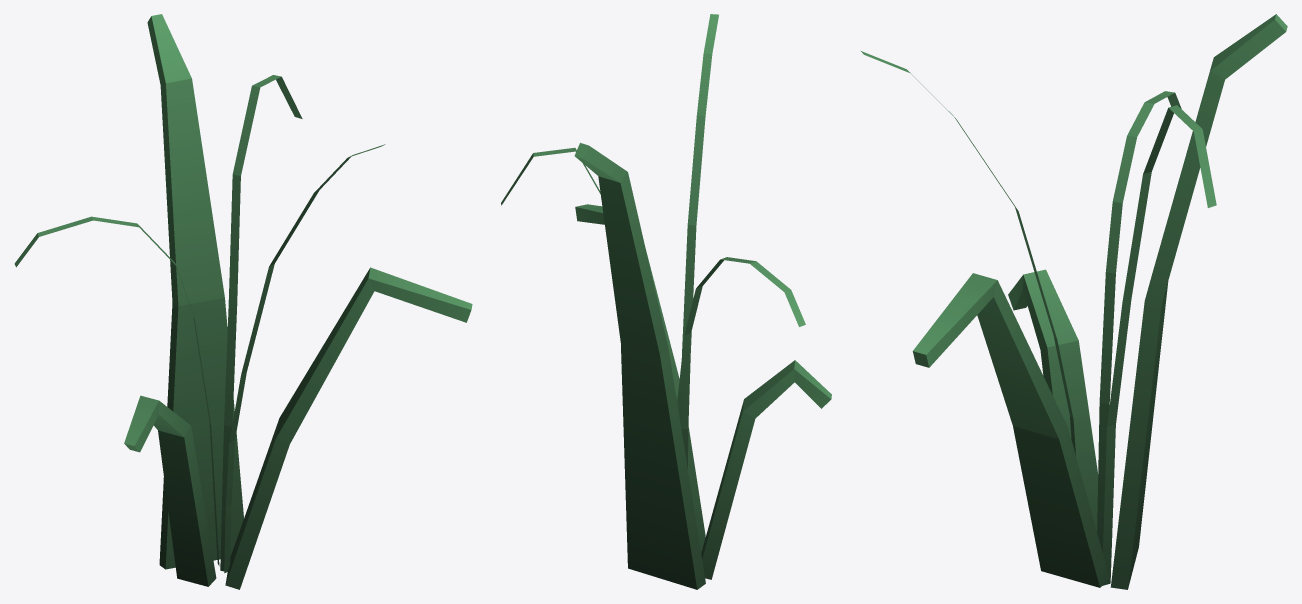
File: DarkGrass1.fbx
3 views of the same model, side by side, from view 1: azimuth 30°, elevation 25°; view 2: azimuth 150°, elevation 25°; view 3: azimuth 270°, elevation 25° (orthographic). The views are drawn at different scales.
Visible parts, largest first — view 1: DarkGrass1; view 2: DarkGrass1; view 3: DarkGrass1.
Boxes of the visible parts, x1,y1,x2,y2 form: DarkGrass1: (14, 14, 472, 589); DarkGrass1: (501, 14, 831, 589); DarkGrass1: (861, 14, 1287, 589).
Bounding box in the file's own units: 132 × 182 × 123.
